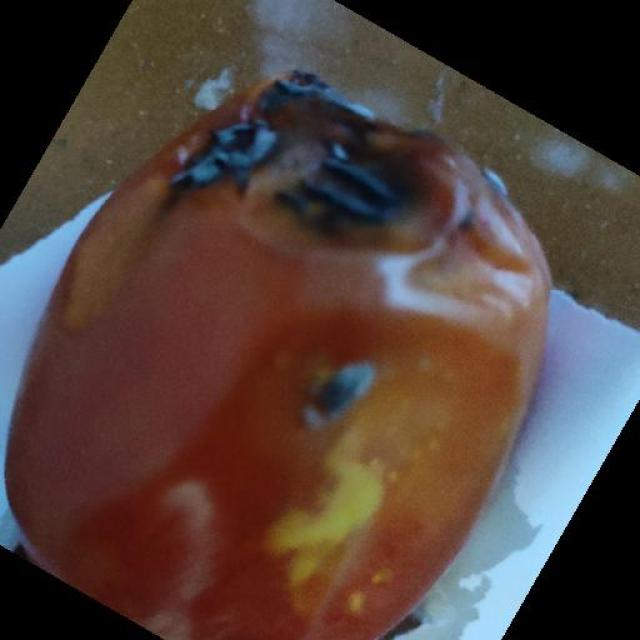Stale_tomato: (55, 53, 540, 640)
